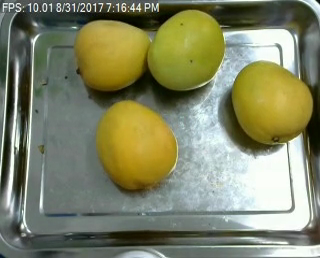Mango: (98, 101, 176, 191), (233, 60, 313, 144), (147, 8, 224, 87), (77, 19, 151, 89)
